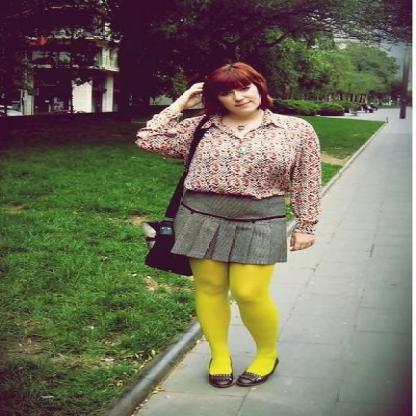bag: (144, 234, 199, 275)
shirt: (137, 108, 336, 232)
shoe: (206, 358, 272, 388)
skirt: (164, 188, 292, 274)
